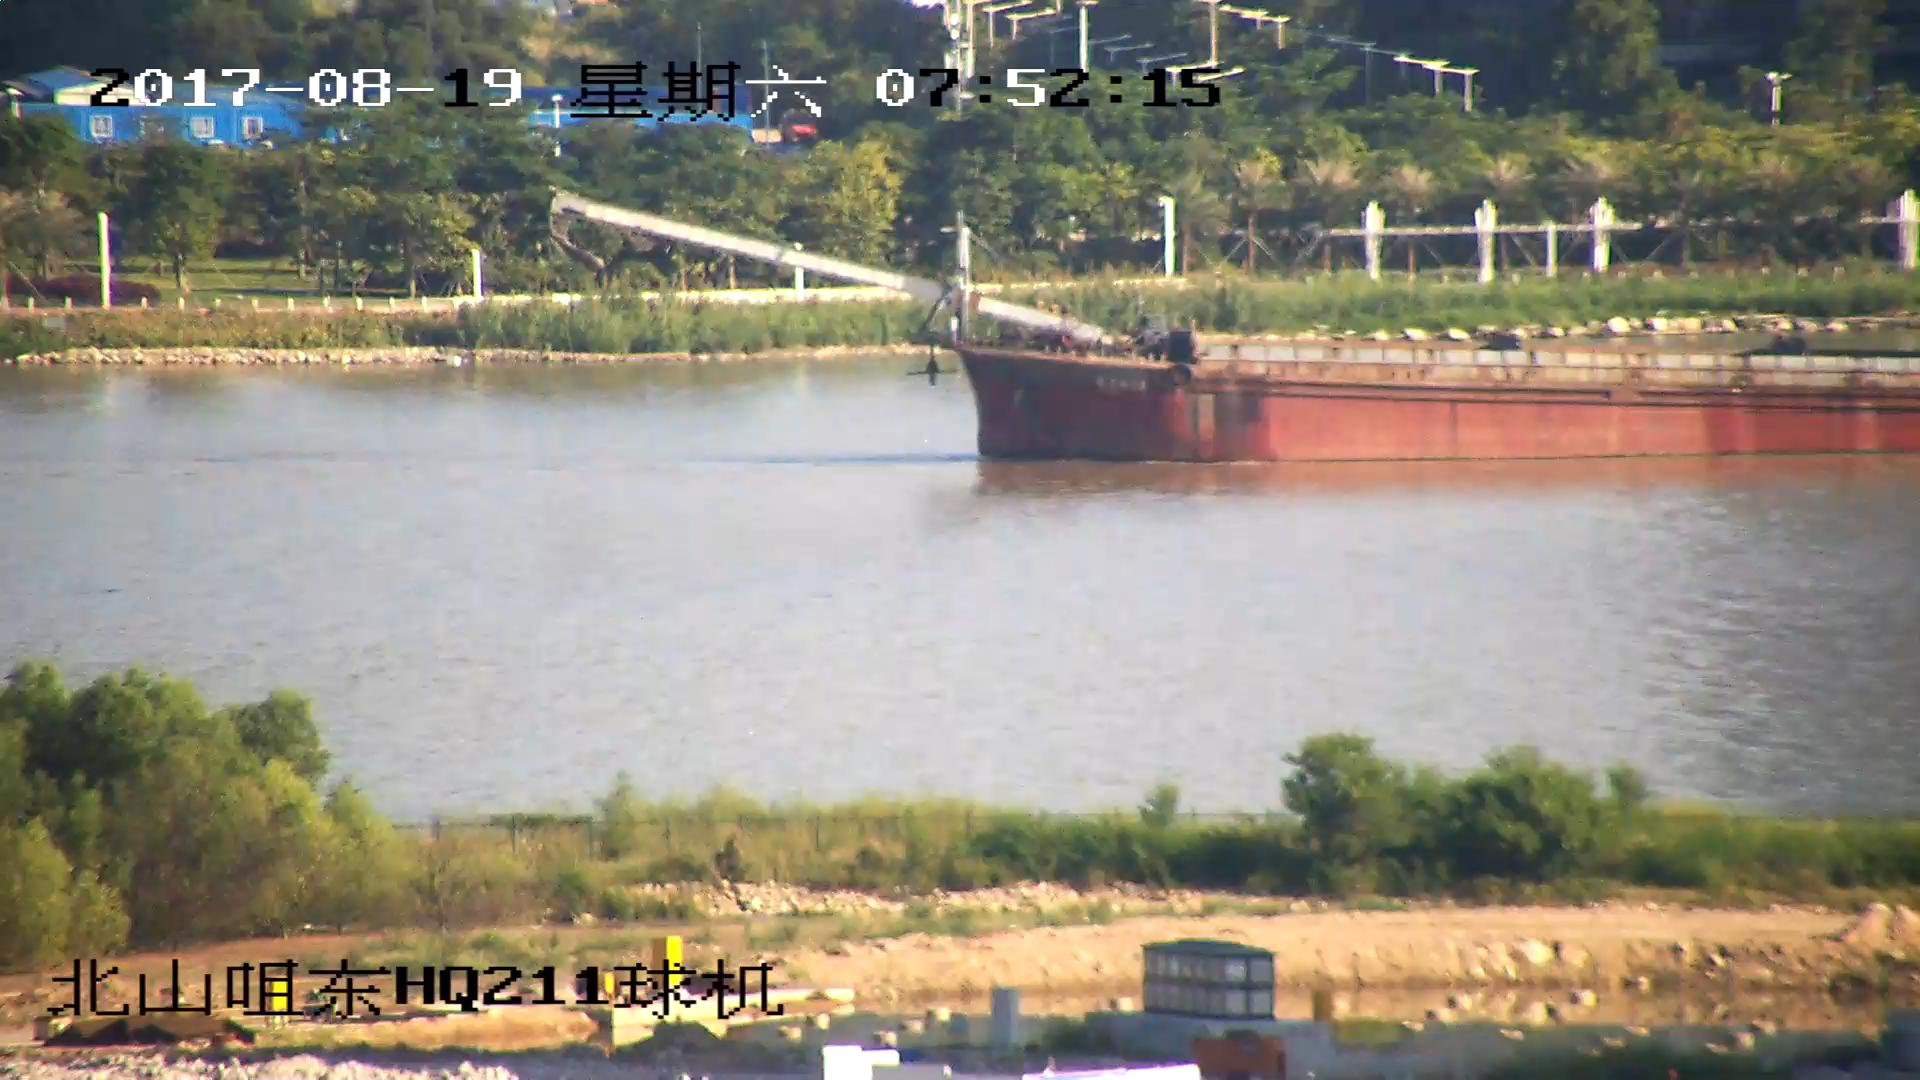bulk cargo carrier: (549, 197, 1920, 462)
